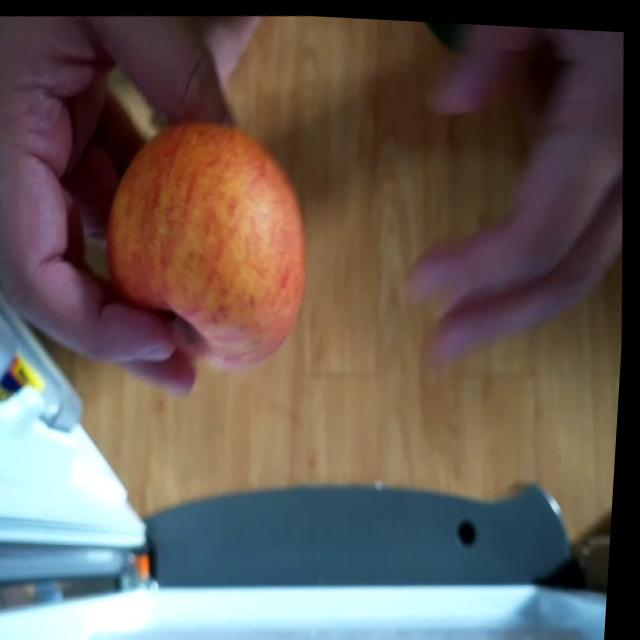apple: (99, 115, 325, 373)
